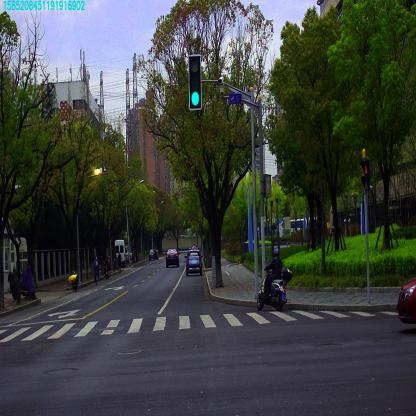traffic-light: (188, 55, 201, 109)
